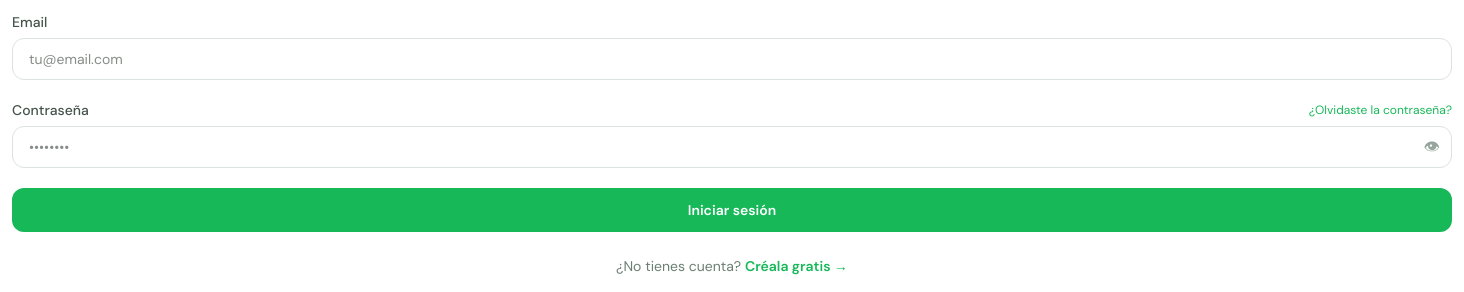
LoginForm (LoginPage) › el botón de submit muestra "Iniciando sesión..." mientras se procesa la petición
Type "ana@example.com" into the field with placeholder "tu@email.com". click: [732, 59]
box: [12, 38, 1452, 80]
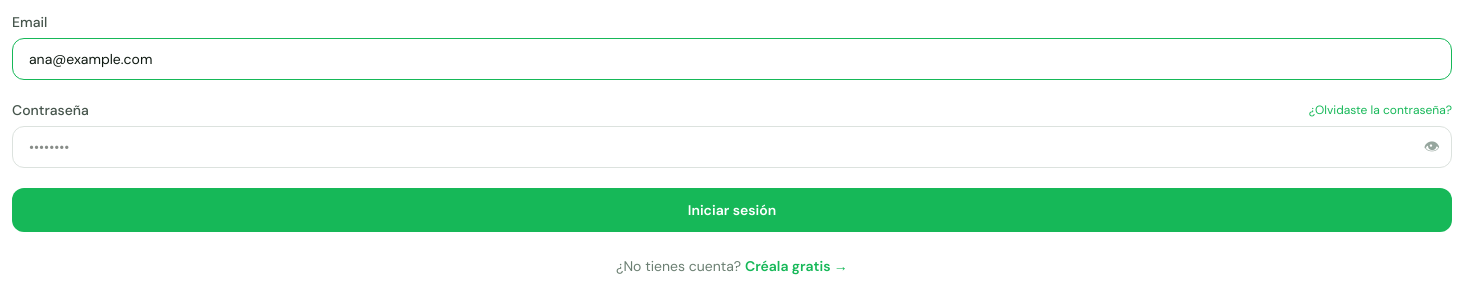
Type "Segura1234!" into the password field with placeholder "••••••••". click: [732, 147]
box: [12, 126, 1452, 168]
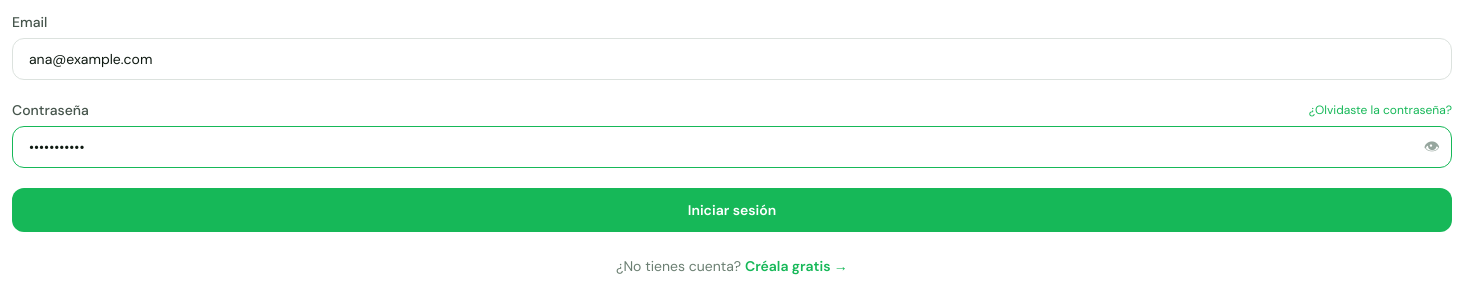
Click the button "Iniciar sesión". click: [732, 210]
box: [12, 188, 1452, 232]
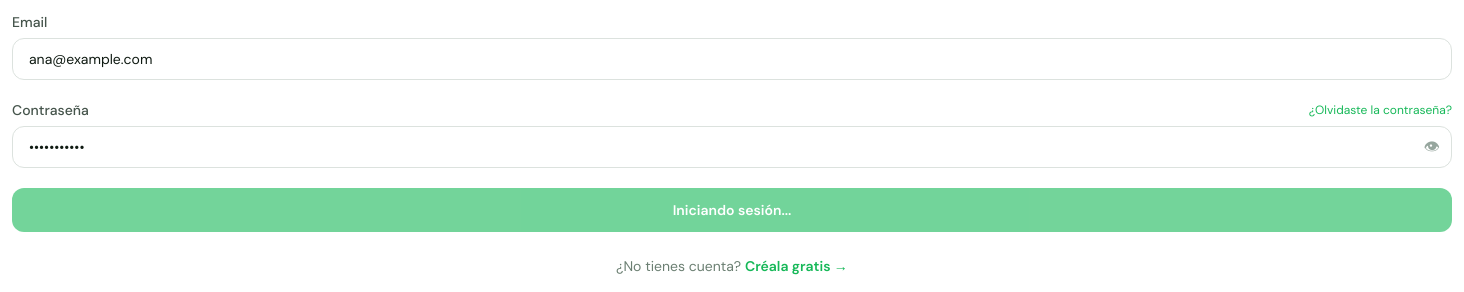
Check: the button "Iniciando sesión..." is shown, box [12, 188, 1452, 232]
